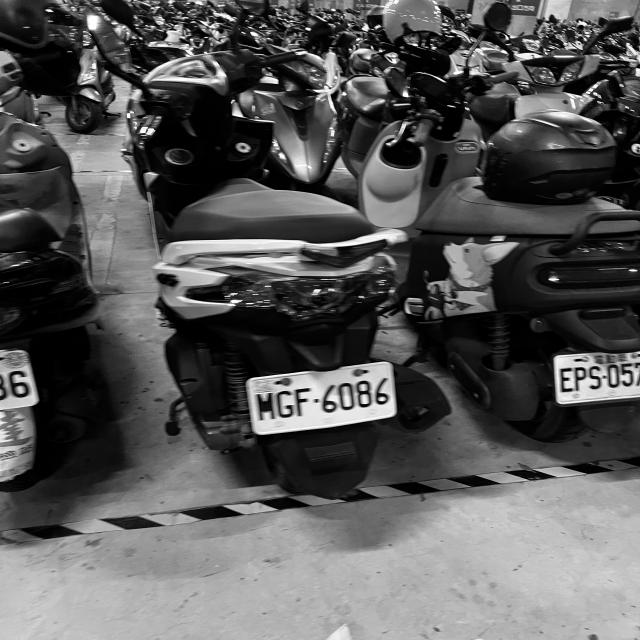-: (602, 374, 608, 380), (314, 398, 319, 404)
0: (338, 380, 356, 413), (606, 363, 621, 390)
5: (619, 362, 635, 388)
6: (8, 369, 34, 401), (376, 377, 393, 407), (322, 384, 338, 415)
8: (353, 379, 373, 410)
E: (559, 366, 575, 394)
F: (293, 386, 313, 418)
G: (274, 388, 296, 419)
M: (255, 389, 277, 423)
P: (573, 365, 587, 392)
S: (587, 366, 604, 391)
plate: (253, 365, 398, 433)
